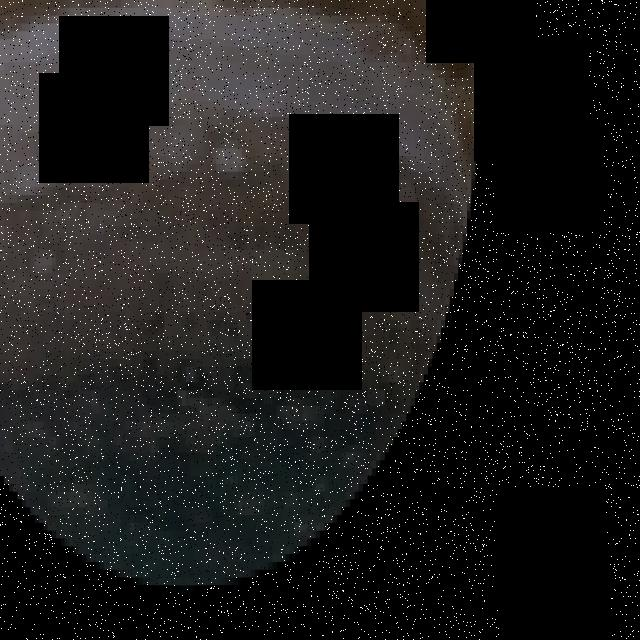Jupiter: (0, 0, 485, 585)
